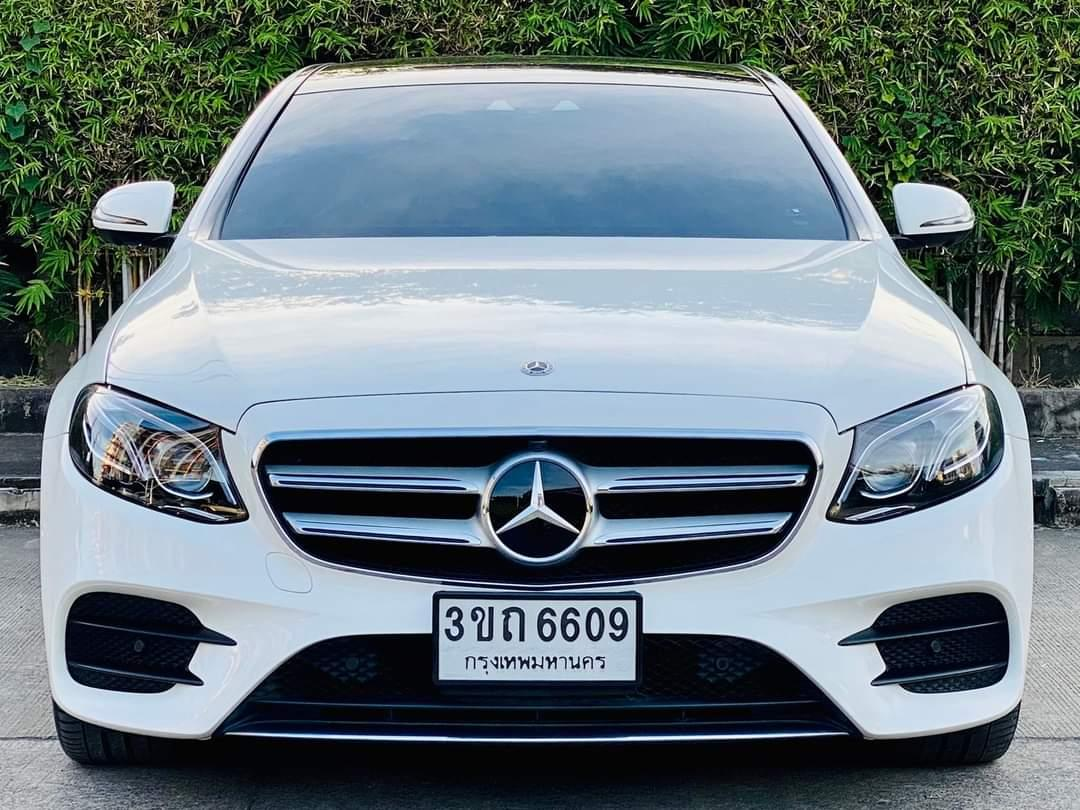license-plate: (430, 586, 643, 687)
